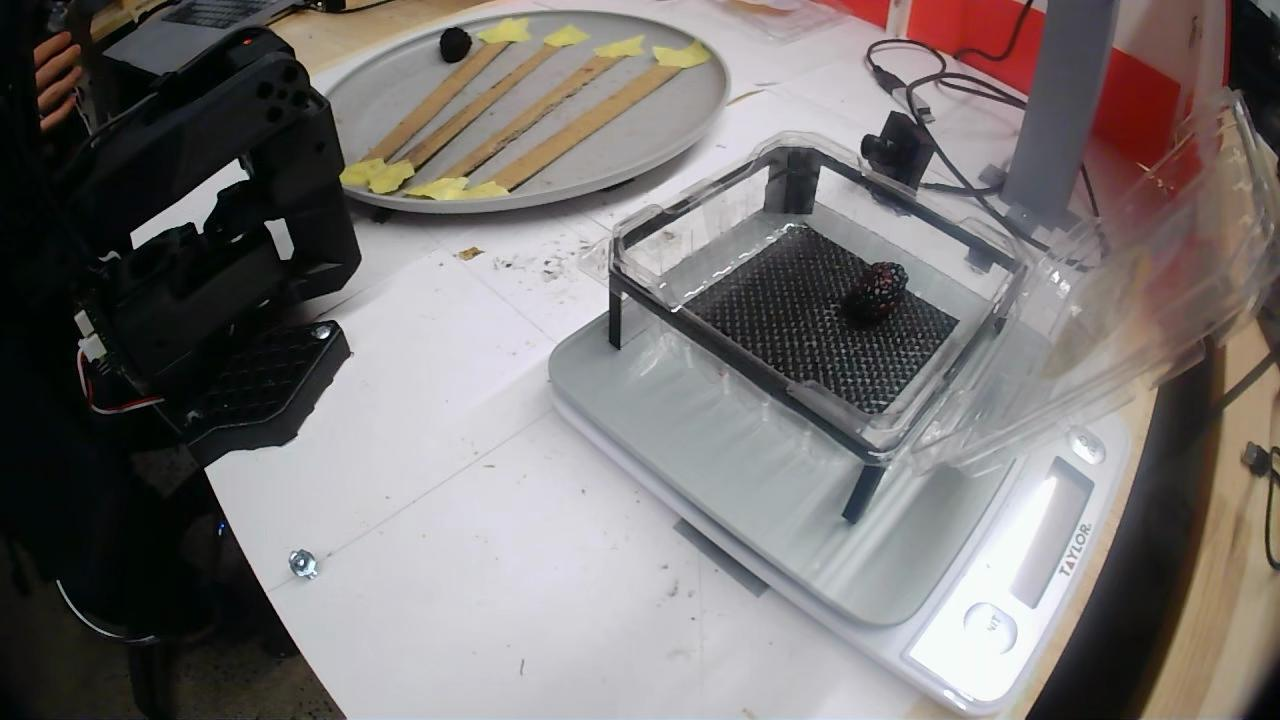berry: (841, 262, 907, 328), (439, 27, 472, 62)
